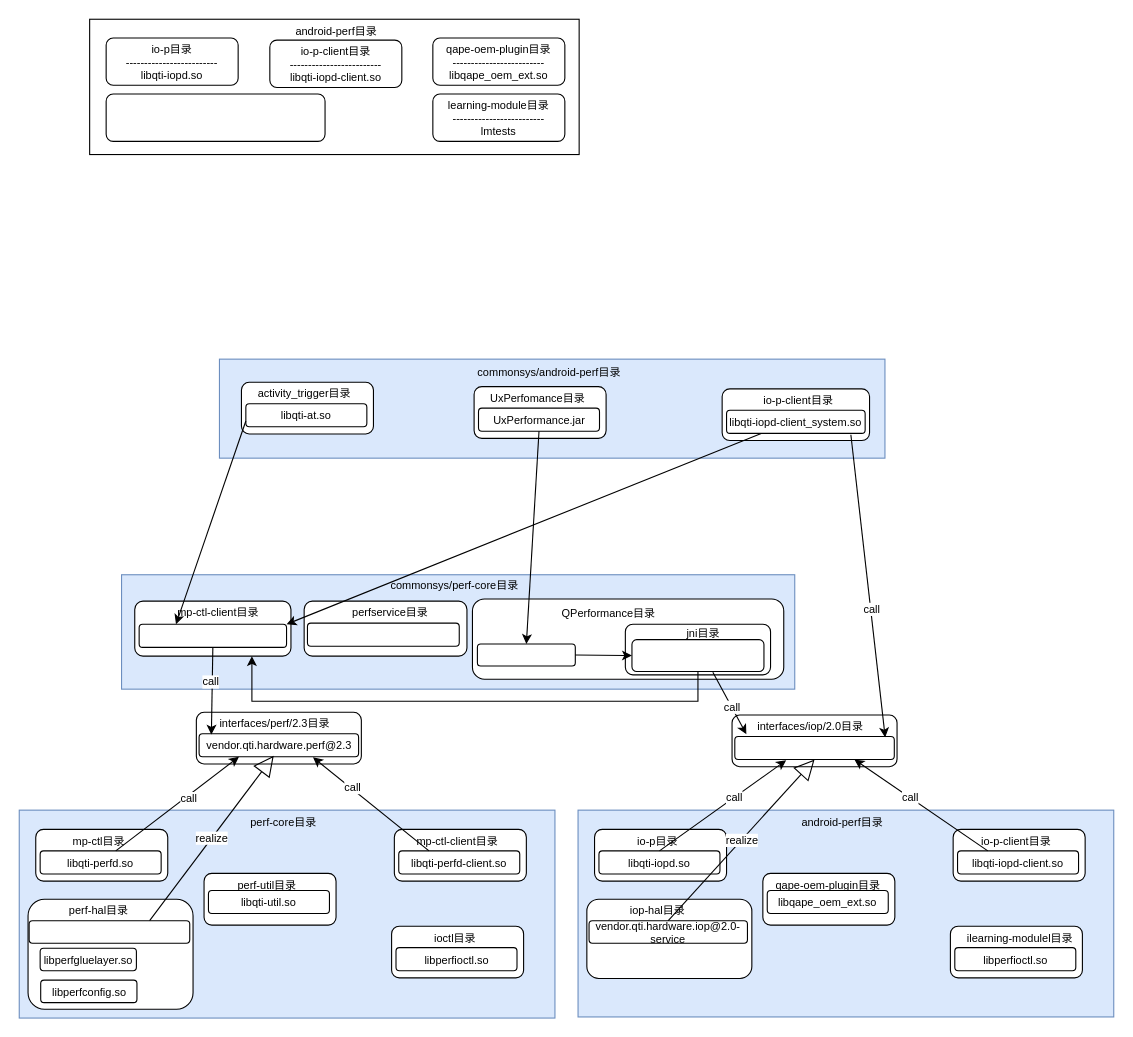
The diagram is 1133 pixels wide and 1037 high, and some of its shapes have lost their labels. The shapes that lost their labels are listed below. From the top down, each one's box as (x1, y1, x2, y2) in pixels, then its label:
(105, 93, 325, 141): iop-hal目录 ------------------------- vendor.qti.hardware.iop@2.0-service
(138, 623, 287, 647): libqti-perfd-client_system.so
(306, 622, 459, 646): perfservice
(476, 643, 575, 666): QPerformance.jar
(631, 639, 764, 672): libqti_performance.so
(734, 735, 894, 760): vendor.qti.hardware.iop@2.0
(28, 920, 190, 943): vendor.qti.hardware.perf-hal-service
